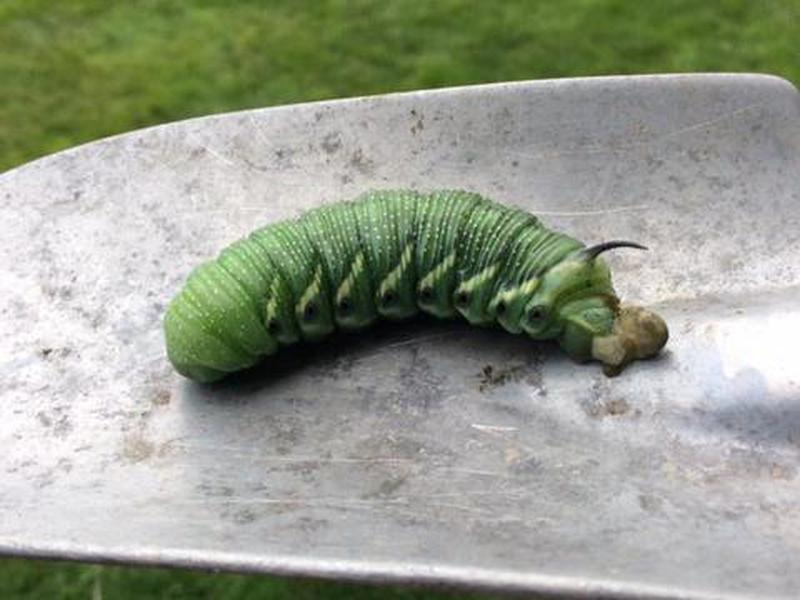Rice_horned_caterpillar: (118, 176, 704, 425)
